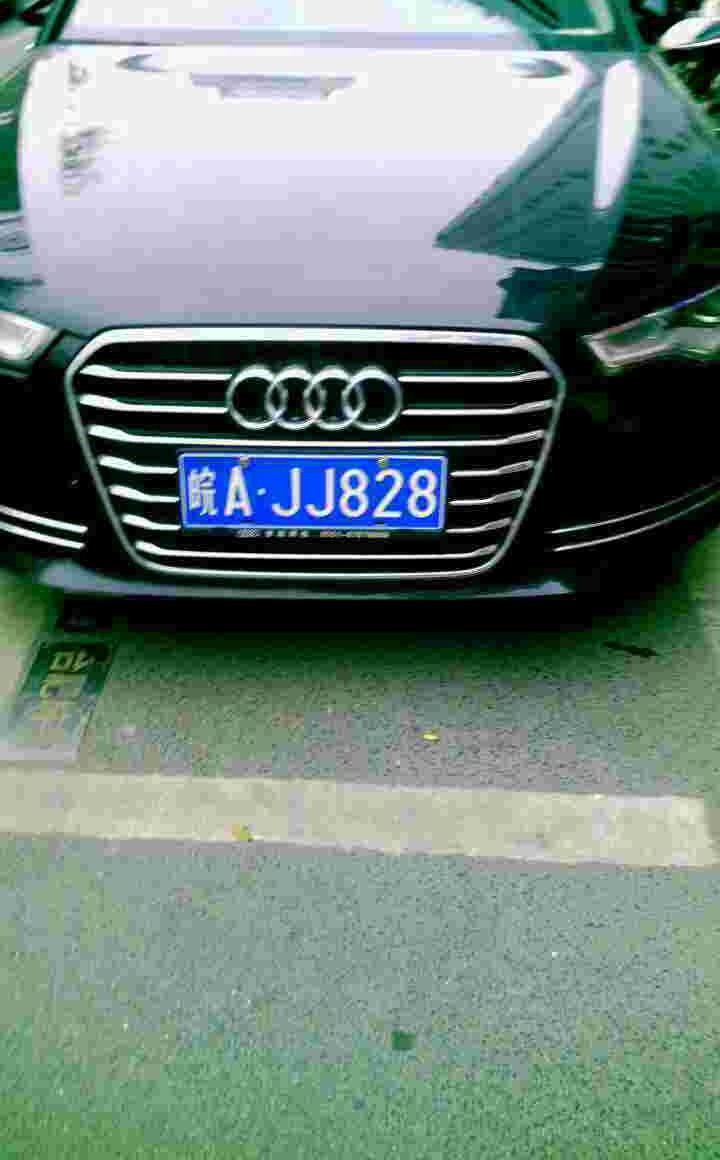license_plate: (173, 446, 453, 537)
